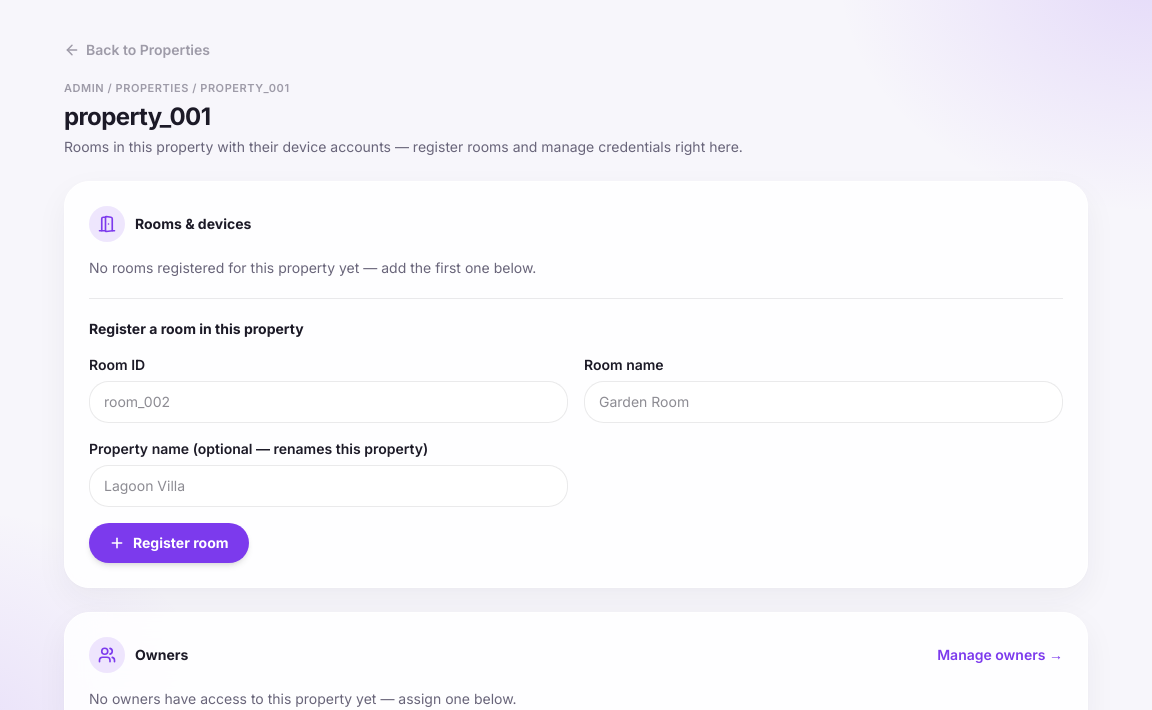
property detail — inline room registration (slice 05) › registers a room with the property id pre-bound from the route
Type "room_009" into the field labelled "Room ID" at (328,402), box [89,380,568,422]
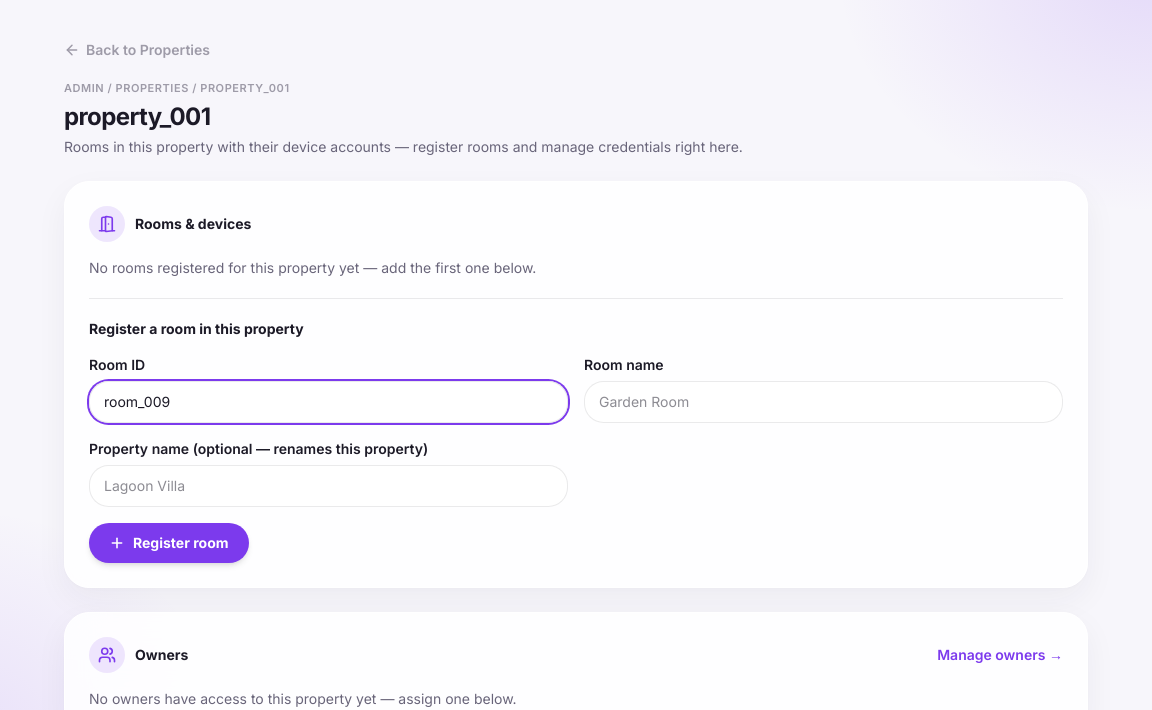
Type "Lake Room" into the field labelled "Room name" at (824,402), box [584,380,1063,422]
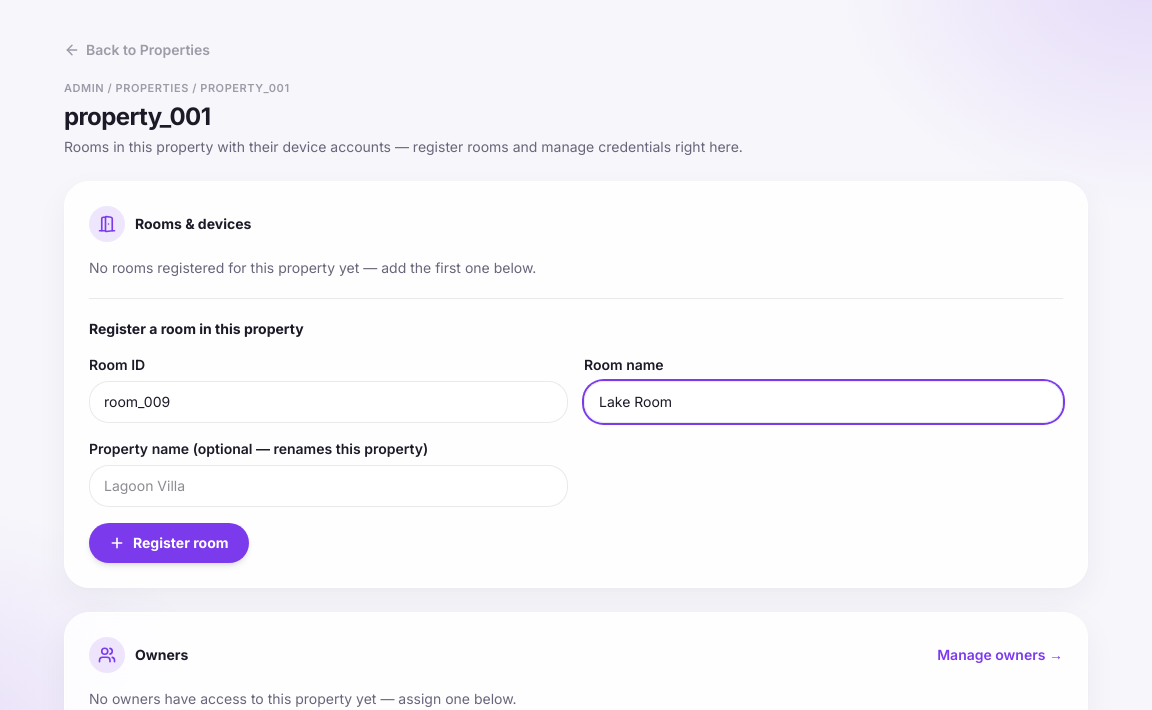
Click the button "Register room" at (169,542), box [89,522,248,562]
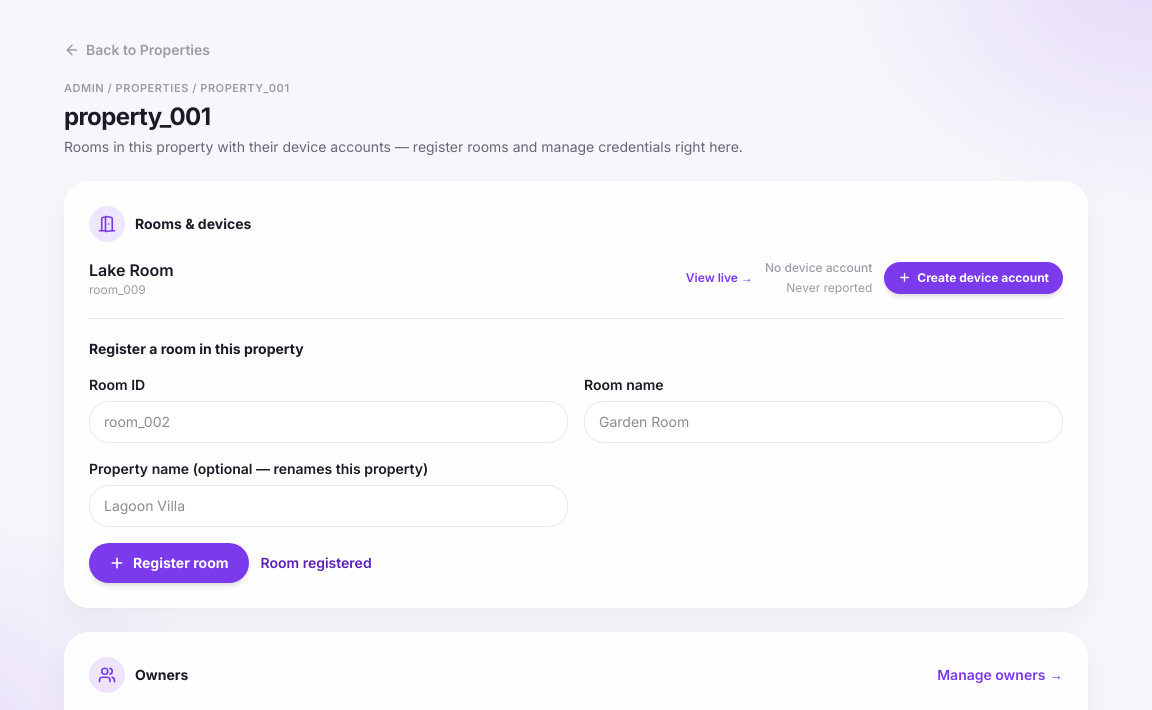
expect the text "Lake Room" is shown: met, box [89,258,174,282]
expect the text "Room registered" is shown: met, box [260,552,372,572]
